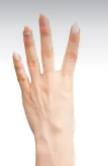right: (10, 11, 81, 135)
